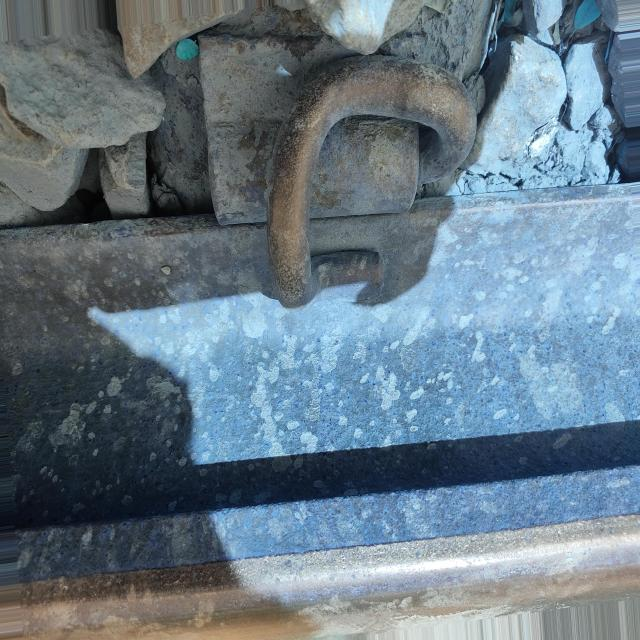Good Fasteners: (166, 27, 497, 339)
